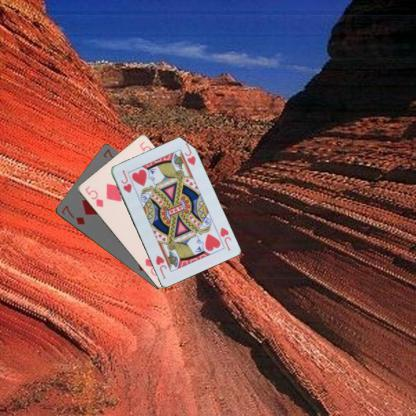5d: (82, 182, 104, 209)
7d: (58, 203, 86, 226)
Jh: (218, 224, 232, 252), (118, 168, 133, 194)
